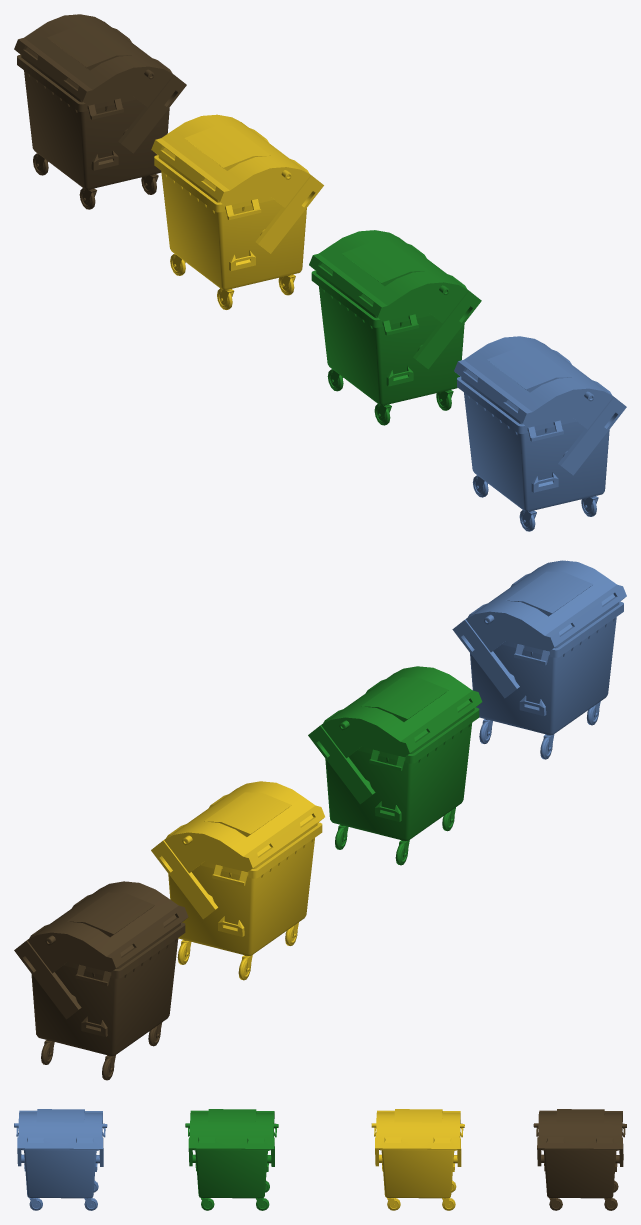
The model's file is Garbage_Container_.fbx.
3 renders of one model, top to bottom at view 1: azimuth 30°, elevation 25°; view 2: azimuth 150°, elevation 25°; view 3: azimuth 270°, elevation 25°, orthographic. The views are drawn at different scales.
Parts seen in each view (by area): view 1: Cuerpo1, cuerpo4, cuerpo2, Cuerpo3, tapa2, Tapa3, tapa4, Tapa1; view 2: cuerpo2, Cuerpo3, cuerpo4, Cuerpo1, tapa2, tapa4, Tapa1, Tapa3; view 3: cuerpo4, Cuerpo3, cuerpo2, Cuerpo1, Tapa3, tapa4, Tapa1, tapa2.
Boxes of the visible parts, <box> form: Cuerpo1: <box>154,155,306,309</box>; cuerpo4: <box>457,376,609,531</box>; cuerpo2: <box>311,270,464,425</box>; Cuerpo3: <box>17,54,169,209</box>; tapa2: <box>309,230,481,369</box>; Tapa3: <box>14,14,186,153</box>; tapa4: <box>454,336,626,475</box>; Tapa1: <box>151,114,323,253</box>; cuerpo2: <box>325,707,479,865</box>; Cuerpo3: <box>31,922,185,1080</box>; cuerpo4: <box>470,601,623,759</box>; Cuerpo1: <box>168,822,322,980</box>; tapa2: <box>308,666,482,804</box>; tapa4: <box>452,560,626,698</box>; Tapa1: <box>151,781,324,919</box>; Tapa3: <box>14,881,188,1019</box>; cuerpo4: <box>16,1127,105,1210</box>; Cuerpo3: <box>536,1127,625,1210</box>; cuerpo2: <box>188,1127,276,1210</box>; Cuerpo1: <box>374,1127,463,1210</box>; Tapa3: <box>533,1109,626,1166</box>; tapa4: <box>14,1109,107,1166</box>; Tapa1: <box>371,1109,464,1166</box>; tapa2: <box>185,1109,278,1166</box>.
Bounding box in the file's own units: 262 × 346 × 2233.
